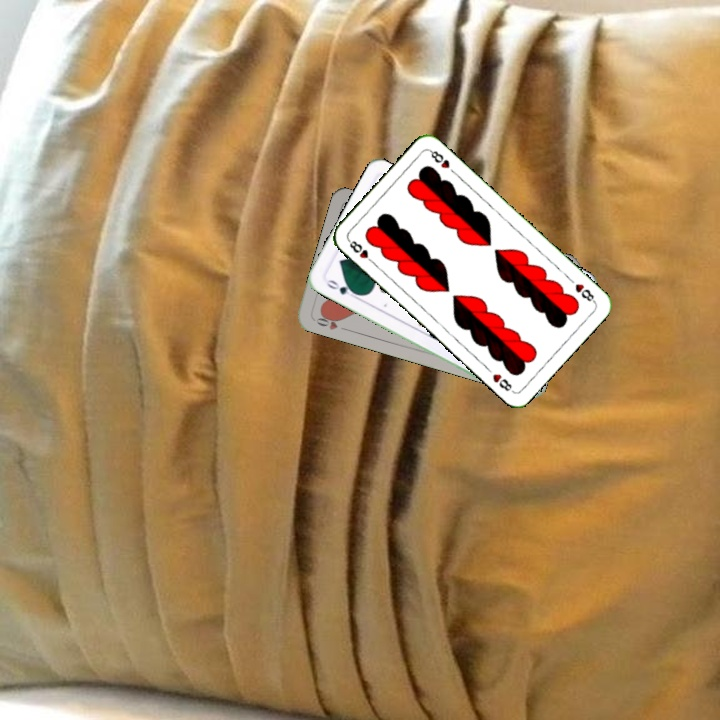GO: (322, 276, 360, 301)
H8: (344, 235, 377, 267), (571, 279, 598, 305)
HO: (312, 310, 350, 333)
